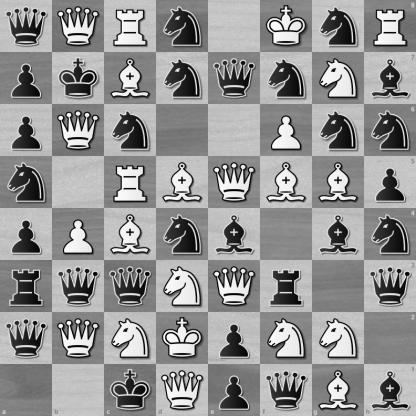B: (312, 364, 364, 416), (105, 53, 156, 104), (105, 209, 156, 260), (157, 157, 208, 208), (261, 157, 312, 208), (313, 157, 364, 208)
K: (157, 313, 208, 364), (261, 1, 312, 52)
N: (105, 313, 156, 364), (157, 261, 208, 312), (261, 313, 312, 364), (313, 53, 364, 104), (313, 313, 364, 364)
P: (53, 209, 104, 260), (261, 105, 312, 156)
Q: (156, 364, 209, 416), (53, 1, 104, 52), (53, 105, 104, 156), (53, 313, 104, 364), (209, 157, 260, 208), (209, 261, 260, 312)
R: (364, 0, 416, 52), (105, 1, 156, 52), (105, 157, 156, 208)
b: (364, 52, 416, 104), (364, 364, 416, 416), (209, 209, 260, 260), (313, 209, 364, 260)
board: (0, 0, 415, 415)
k: (104, 364, 156, 416), (53, 53, 104, 104)
n: (364, 104, 416, 156), (364, 209, 416, 260), (1, 157, 52, 208), (105, 105, 156, 156), (157, 1, 208, 52), (157, 53, 208, 104), (157, 209, 208, 260), (261, 53, 312, 104), (313, 1, 364, 52), (313, 105, 364, 156)
p: (364, 156, 416, 209), (209, 364, 260, 416), (1, 53, 52, 104), (1, 105, 52, 156), (1, 209, 52, 260), (209, 313, 260, 364)
q: (260, 364, 312, 416), (364, 260, 416, 312), (1, 1, 52, 52), (1, 313, 52, 364), (53, 261, 104, 312), (105, 261, 156, 312), (209, 53, 260, 104)
r: (1, 261, 52, 312), (261, 261, 312, 312)
